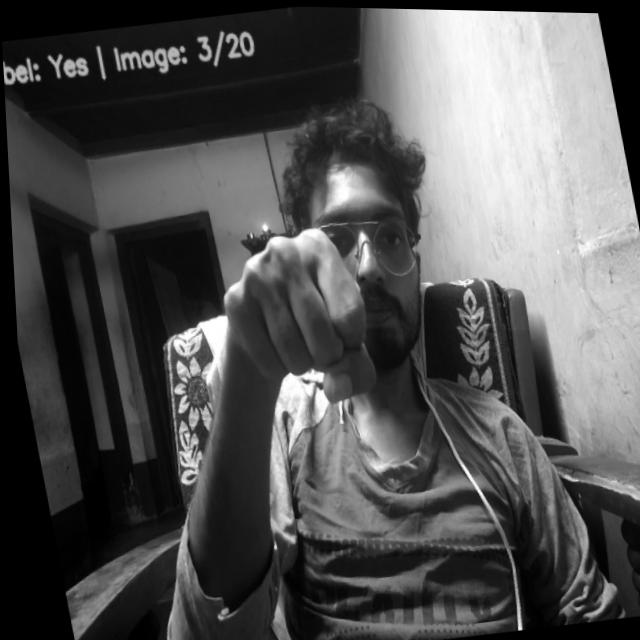Yes: (205, 214, 389, 416)
